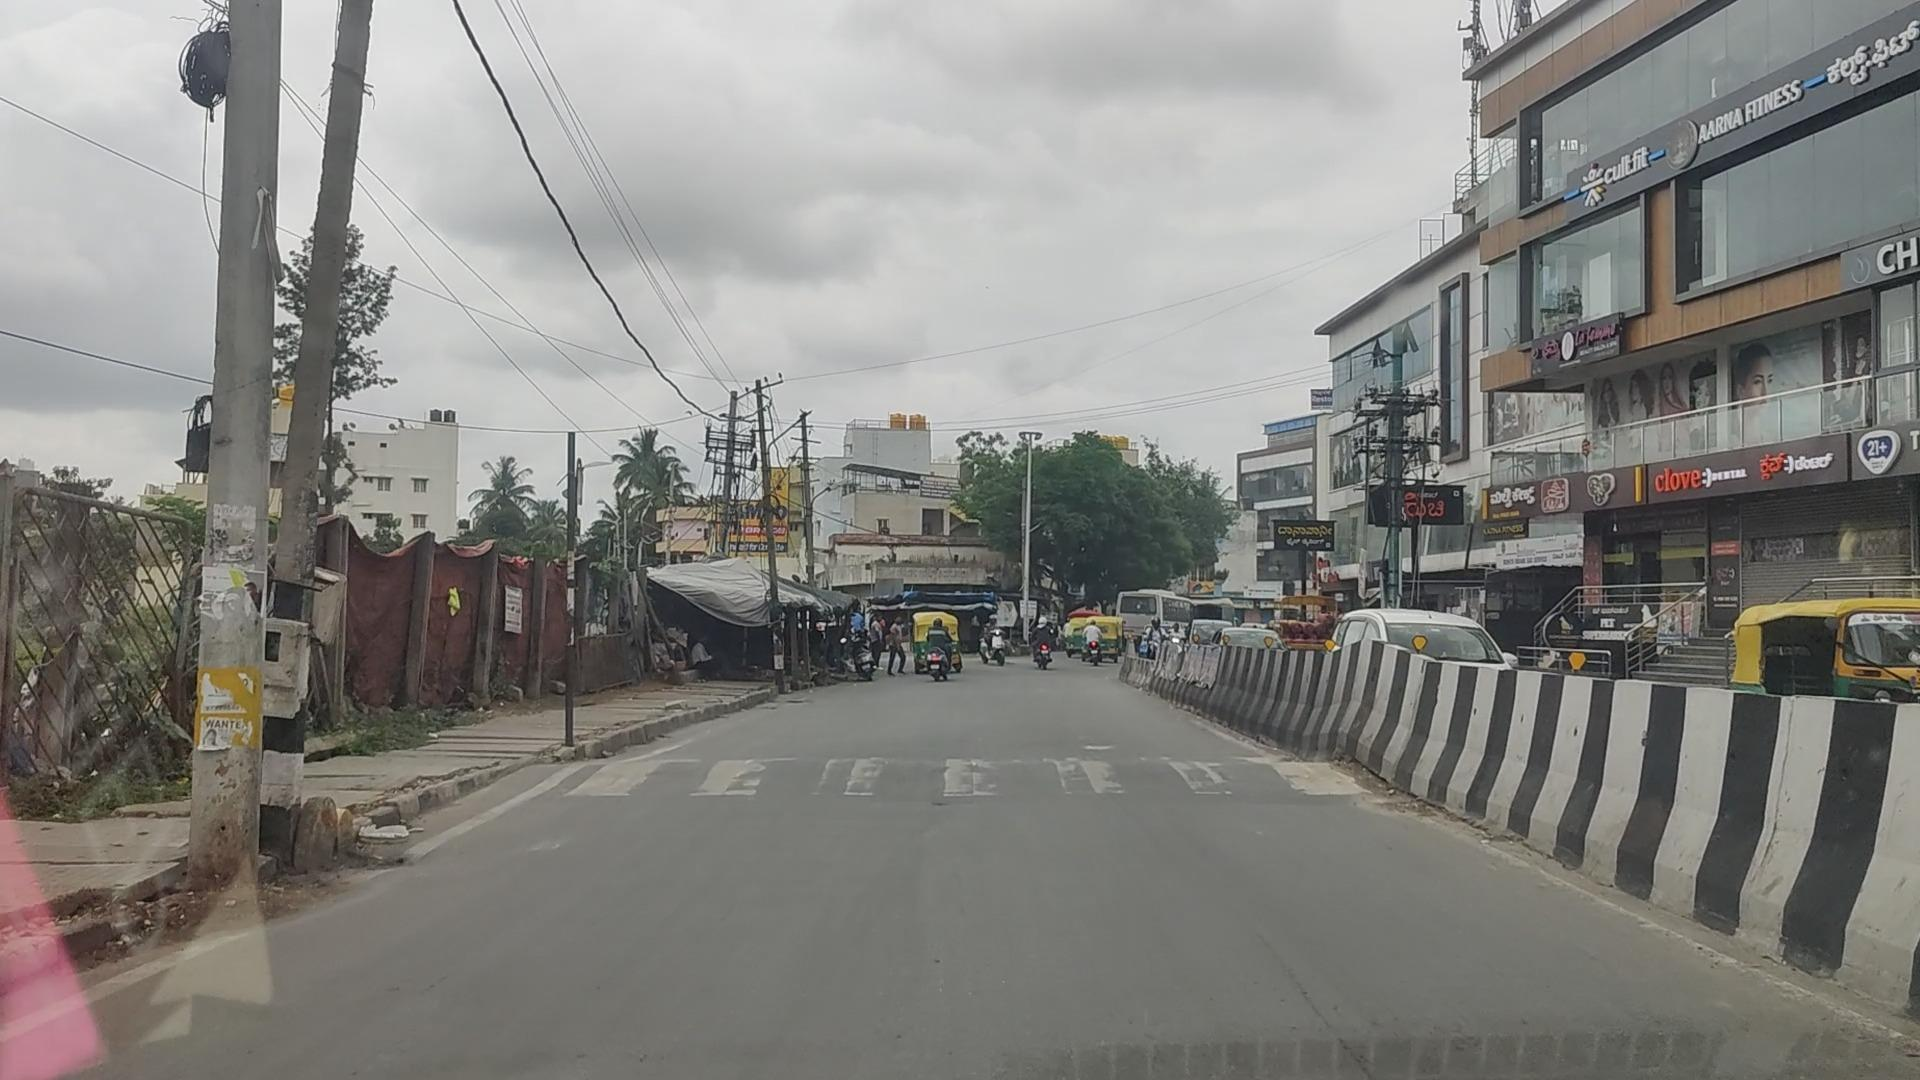SpeedBump: (537, 750, 1378, 811)
